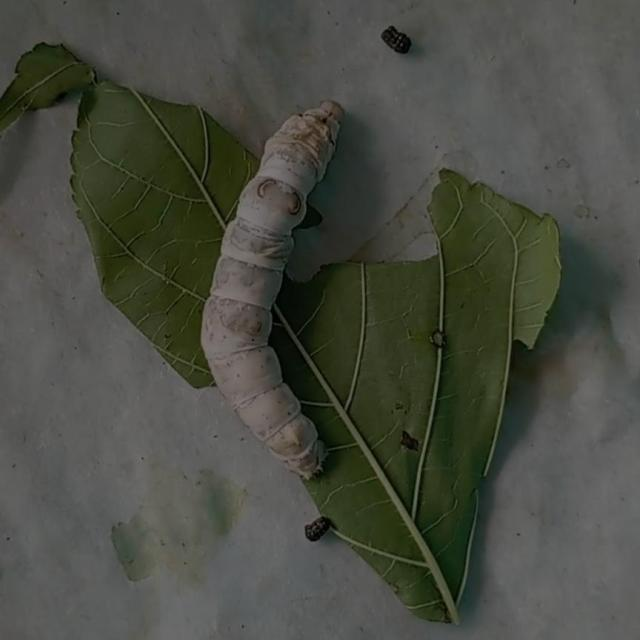Grasserie: (188, 79, 352, 479)
